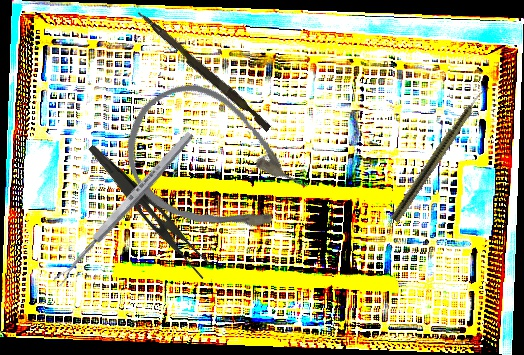Cannula: (103, 63, 325, 267)
Dressing Forceps: (74, 143, 220, 282)
Handpiece: (389, 82, 492, 224)
Pusher: (132, 10, 275, 132)
Surgical Spoon: (51, 129, 196, 288)
